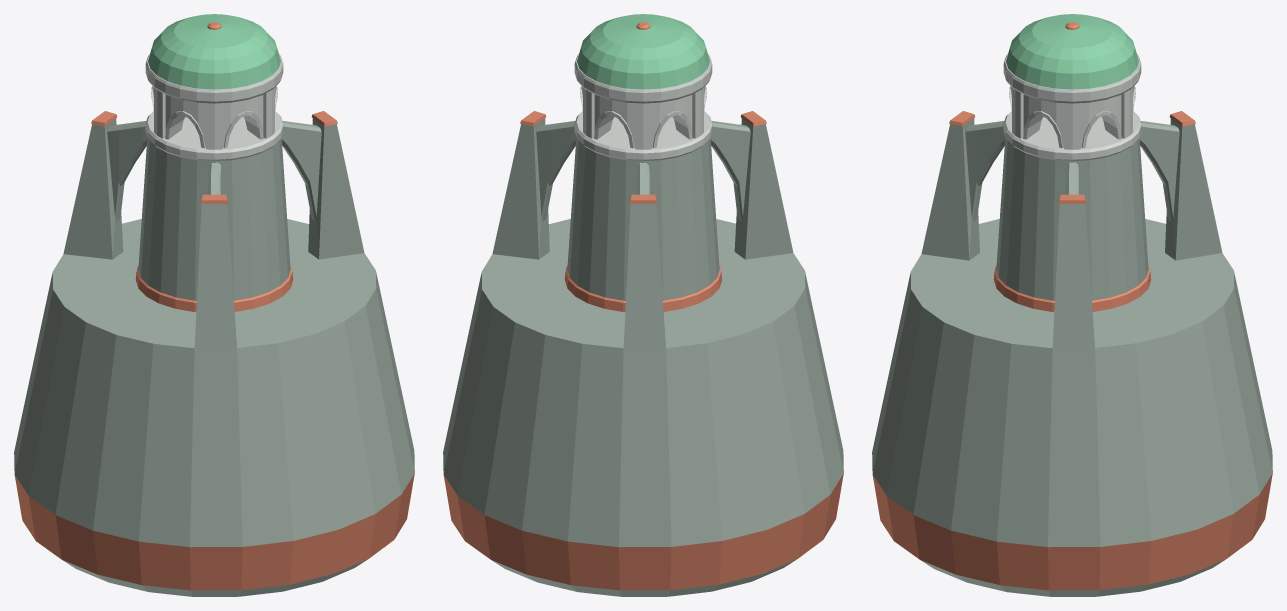
File: envCastle.fbx
3 renders of one model, left to right at view 1: azimuth 30°, elevation 25°; view 2: azimuth 150°, elevation 25°; view 3: azimuth 270°, elevation 25°, orthographic.
Parts seen in each view (by area): view 1: castle; view 2: castle; view 3: castle.
Part boxes in pixels (x1=…): castle: x1=14, y1=14, x2=414, y2=596; castle: x1=443, y1=14, x2=843, y2=596; castle: x1=872, y1=14, x2=1272, y2=596.
Size of the model in its own units: 2.99 by 4.11 by 2.99.
